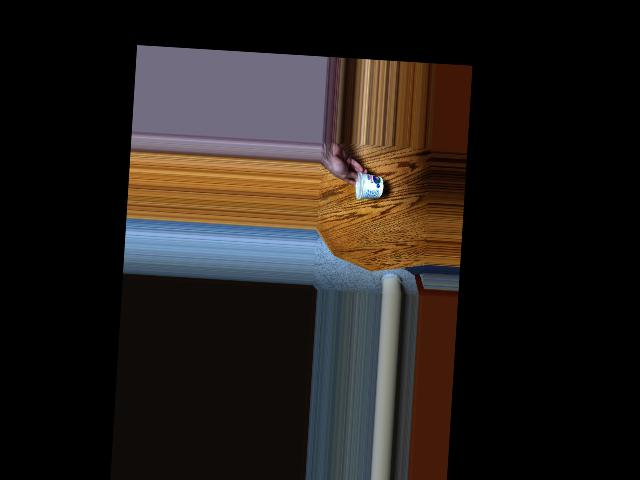cotage: (351, 173, 387, 207)
